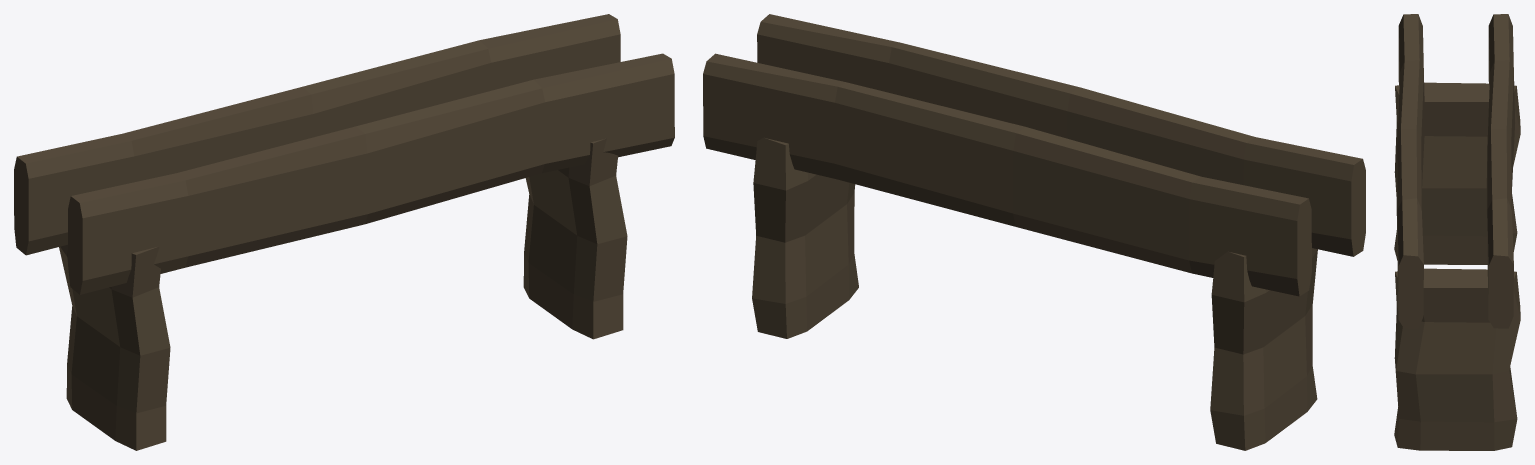
The model's file is bench.glb.
The picture shows the model from 3 angles, left to right: view 1: azimuth 30°, elevation 25°; view 2: azimuth 150°, elevation 25°; view 3: azimuth 270°, elevation 25°; orthographic projection. The views are drawn at different scales.
Visible parts, largest first — view 1: Wood; view 2: Wood; view 3: Wood.
Part boxes in pixels (x1,y1,x2,y2): Wood: (14,14,674,450); Wood: (703,14,1365,450); Wood: (1394,14,1520,450).
Bounding box in the file's own units: 1.14 × 0.4804 × 0.2531.
